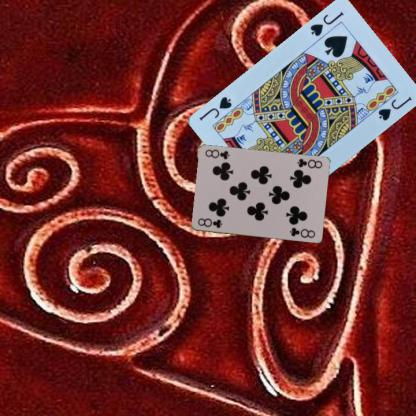8c: (194, 216, 224, 230), (294, 156, 324, 170)
Js: (308, 9, 346, 38)
